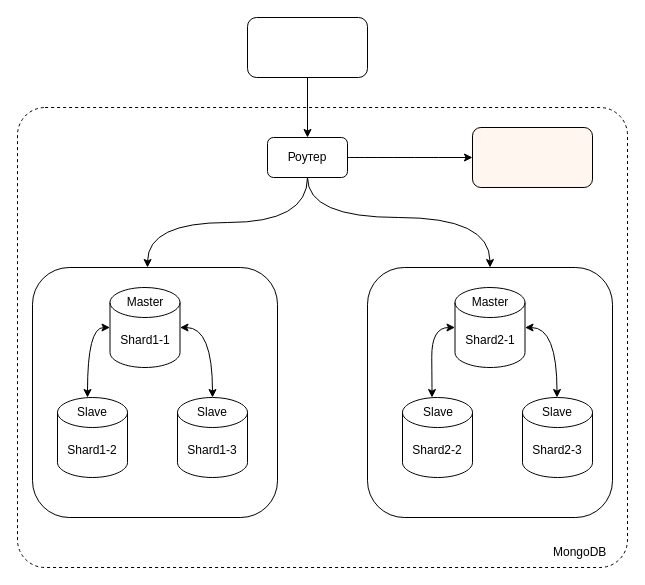
The diagram is 645 pixels wide and 585 high, and some of its shapes have lost their labels. The centre of each missing label's shape, as x and y in pixels:
"configSrv" goes at [532,157].
"pymongo-api" goes at [307,47].
